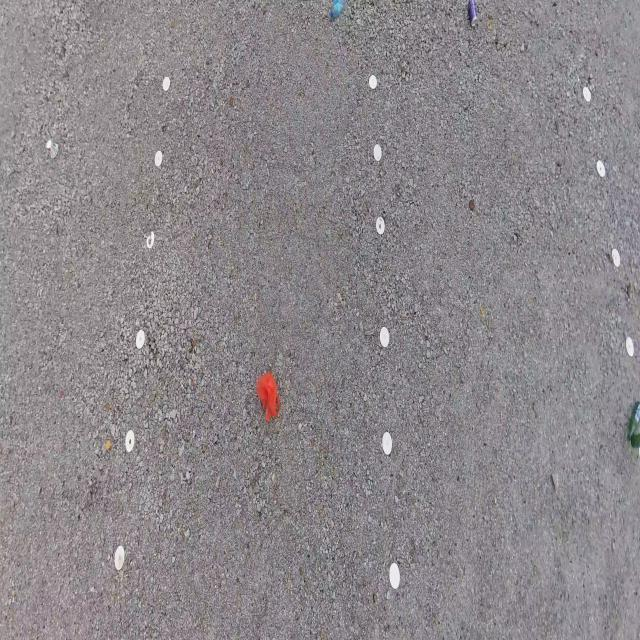rubbish: (256, 370, 281, 421), (628, 401, 639, 439), (329, 0, 347, 20), (46, 137, 58, 158), (468, 0, 477, 28), (630, 433, 639, 448), (469, 199, 476, 209)
